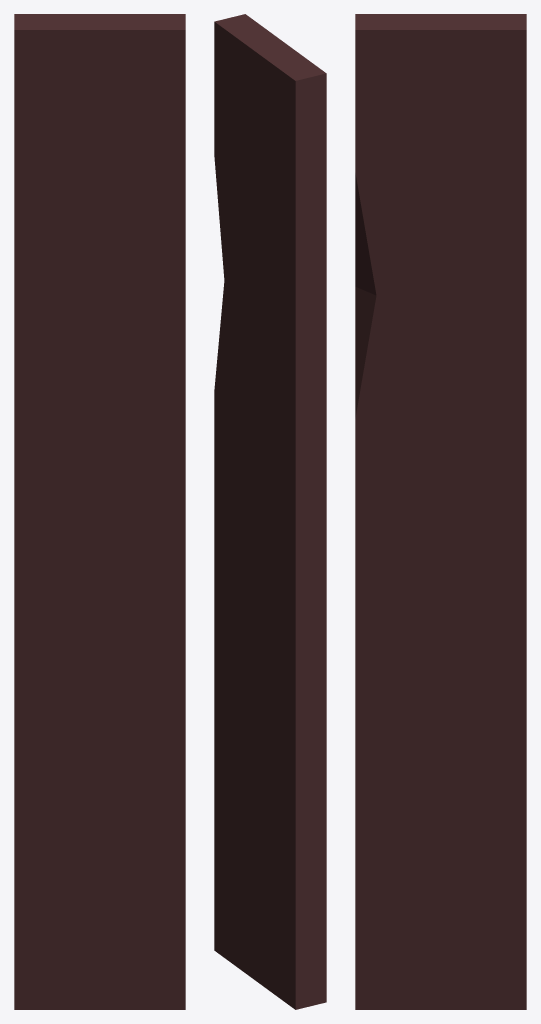
The model's file is SM_Env_Wood_04.fbx.
3 views of the same model, side by side, from view 1: azimuth 90°, elevation 25°; view 2: azimuth 210°, elevation 25°; view 3: azimuth 270°, elevation 25° (orthographic). The views are drawn at different scales.
Parts seen in each view (by area): view 1: SM_Env_Wood_04; view 2: SM_Env_Wood_04; view 3: SM_Env_Wood_04.
Boxes of the visible parts, left/top/right/bottom form: SM_Env_Wood_04: left=14, top=14, right=185, bottom=1009; SM_Env_Wood_04: left=214, top=14, right=326, bottom=1009; SM_Env_Wood_04: left=355, top=14, right=526, bottom=1009.
Size of the model in its own units: 2.66 by 75.94 by 12.02.
Materials: 1 (1 with a texture image).
